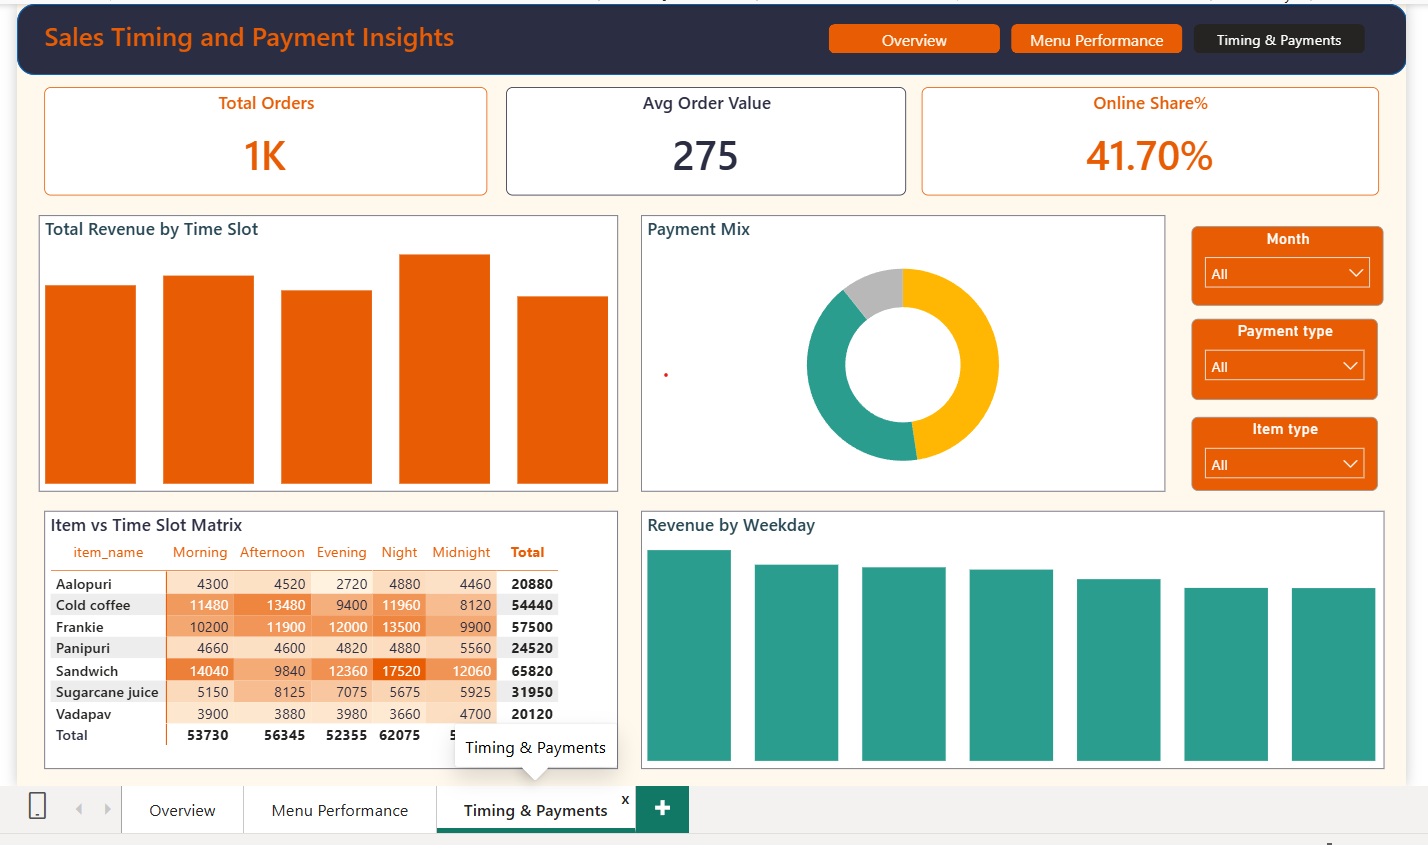

What the dashboard file says about the page in this screenshot:
{"tool":"powerbi","page":{"name":"Timing & Payments","canvas":[1280,720],"ordinal":2},"visuals":[{"type":"shape","box":[0,0,1280.4,65.6],"z":0},{"type":"slicer","title":"Item type","fields":{"Values":["restaurent vw_sales.item_type"]},"box":[1082.3,380.4,171.9,68.2],"z":1000},{"type":"clusteredColumnChart","title":"Total Revenue by Time Slot","fields":{"Category":["restaurent vw_sales.time_of_sale"],"Y":["restaurent vw_sales.Total Revenue"]},"box":[19.7,194.2,533.9,254.5],"z":2000},{"type":"slicer","title":"Month","fields":{"Values":["Dim_Date.Month"]},"box":[1082.3,204.7,177.1,73.5],"z":3000},{"type":"donutChart","title":"Payment Mix","fields":{"Category":["restaurent vw_sales.payment_type"],"Y":["restaurent vw_sales.Total Orders"]},"box":[574.6,194.2,482.8,254.5],"z":4000},{"type":"slicer","title":"Payment type","fields":{"Values":["restaurent vw_sales.payment_type"]},"box":[1082.3,289.9,171.9,74.8],"z":5000},{"type":"pivotTable","title":"Item vs Time Slot Matrix","fields":{"Rows":["restaurent vw_sales.item_name"],"Columns":["restaurent vw_sales.time_of_sale"],"Values":["restaurent vw_sales.Total Revenue"]},"box":[24.9,467,528.7,237.4],"z":6000},{"type":"clusteredColumnChart","title":"Revenue by Weekday","fields":{"Category":["Dim_Date.Weekday"],"Y":["restaurent vw_sales.Total Revenue"]},"box":[574.6,467,684.8,237.4],"z":7000},{"type":"cardVisual","title":"Total Orders","fields":{"Data":["restaurent vw_sales.Total Orders"]},"box":[24.9,76.1,408,99.7],"z":8000},{"type":"cardVisual","title":"Avg Order Value","fields":{"Data":["restaurent vw_sales.Avg Order Value"]},"box":[450,76.1,368.6,99.7],"z":9000},{"type":"cardVisual","title":"Online Share%","fields":{"Data":["restaurent vw_sales.Online Share %"]},"box":[833,76.1,421.1,99.7],"z":10000},{"type":"textbox","title":"Sales Timing and Payment Insights","box":[19.7,13.1,413.2,38],"z":11000},{"type":"pageNavigator","box":[741.2,13.1,506.4,39.4],"z":12000}]}

Visuals, with their boxes on the page's 1280x720 design canvas (x1, y1, x2, y2). These are canvas units, not pixel positions in the 1428x845 screenshot, which may show the page scaled, cropped or inside an application window:
shape: [0, 0, 1280, 66]
"Item type" slicer: [1082, 380, 1254, 449]
"Total Revenue by Time Slot" clusteredColumnChart: [20, 194, 554, 449]
"Month" slicer: [1082, 205, 1259, 278]
"Payment Mix" donutChart: [575, 194, 1057, 449]
"Payment type" slicer: [1082, 290, 1254, 365]
"Item vs Time Slot Matrix" pivotTable: [25, 467, 554, 704]
"Revenue by Weekday" clusteredColumnChart: [575, 467, 1259, 704]
"Total Orders" cardVisual: [25, 76, 433, 176]
"Avg Order Value" cardVisual: [450, 76, 819, 176]
"Online Share%" cardVisual: [833, 76, 1254, 176]
"Sales Timing and Payment Insights" textbox: [20, 13, 433, 51]
pageNavigator: [741, 13, 1248, 52]
